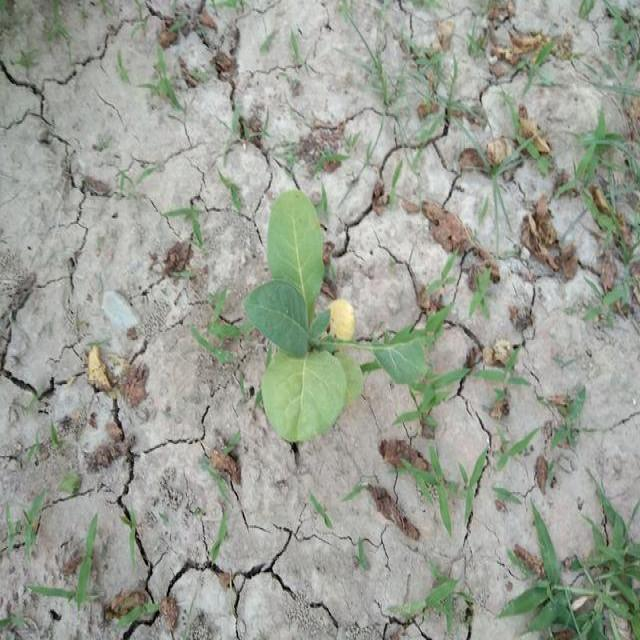crop: (252, 175, 422, 448)
